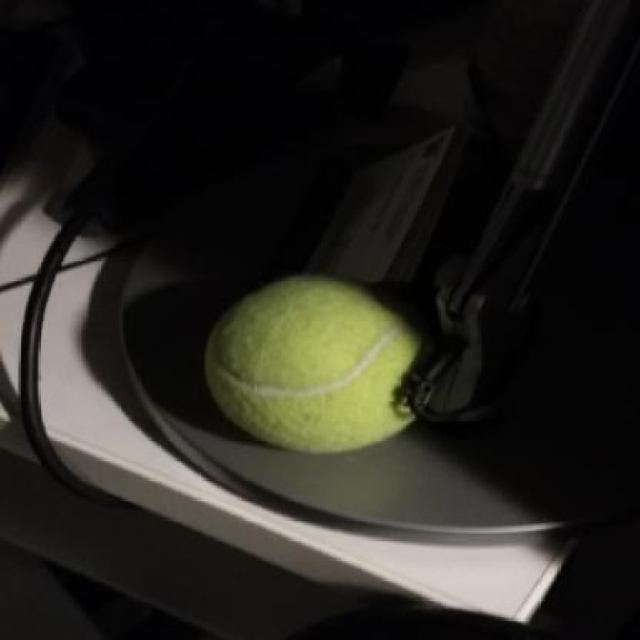Tennis_Ball: (198, 272, 444, 457)
